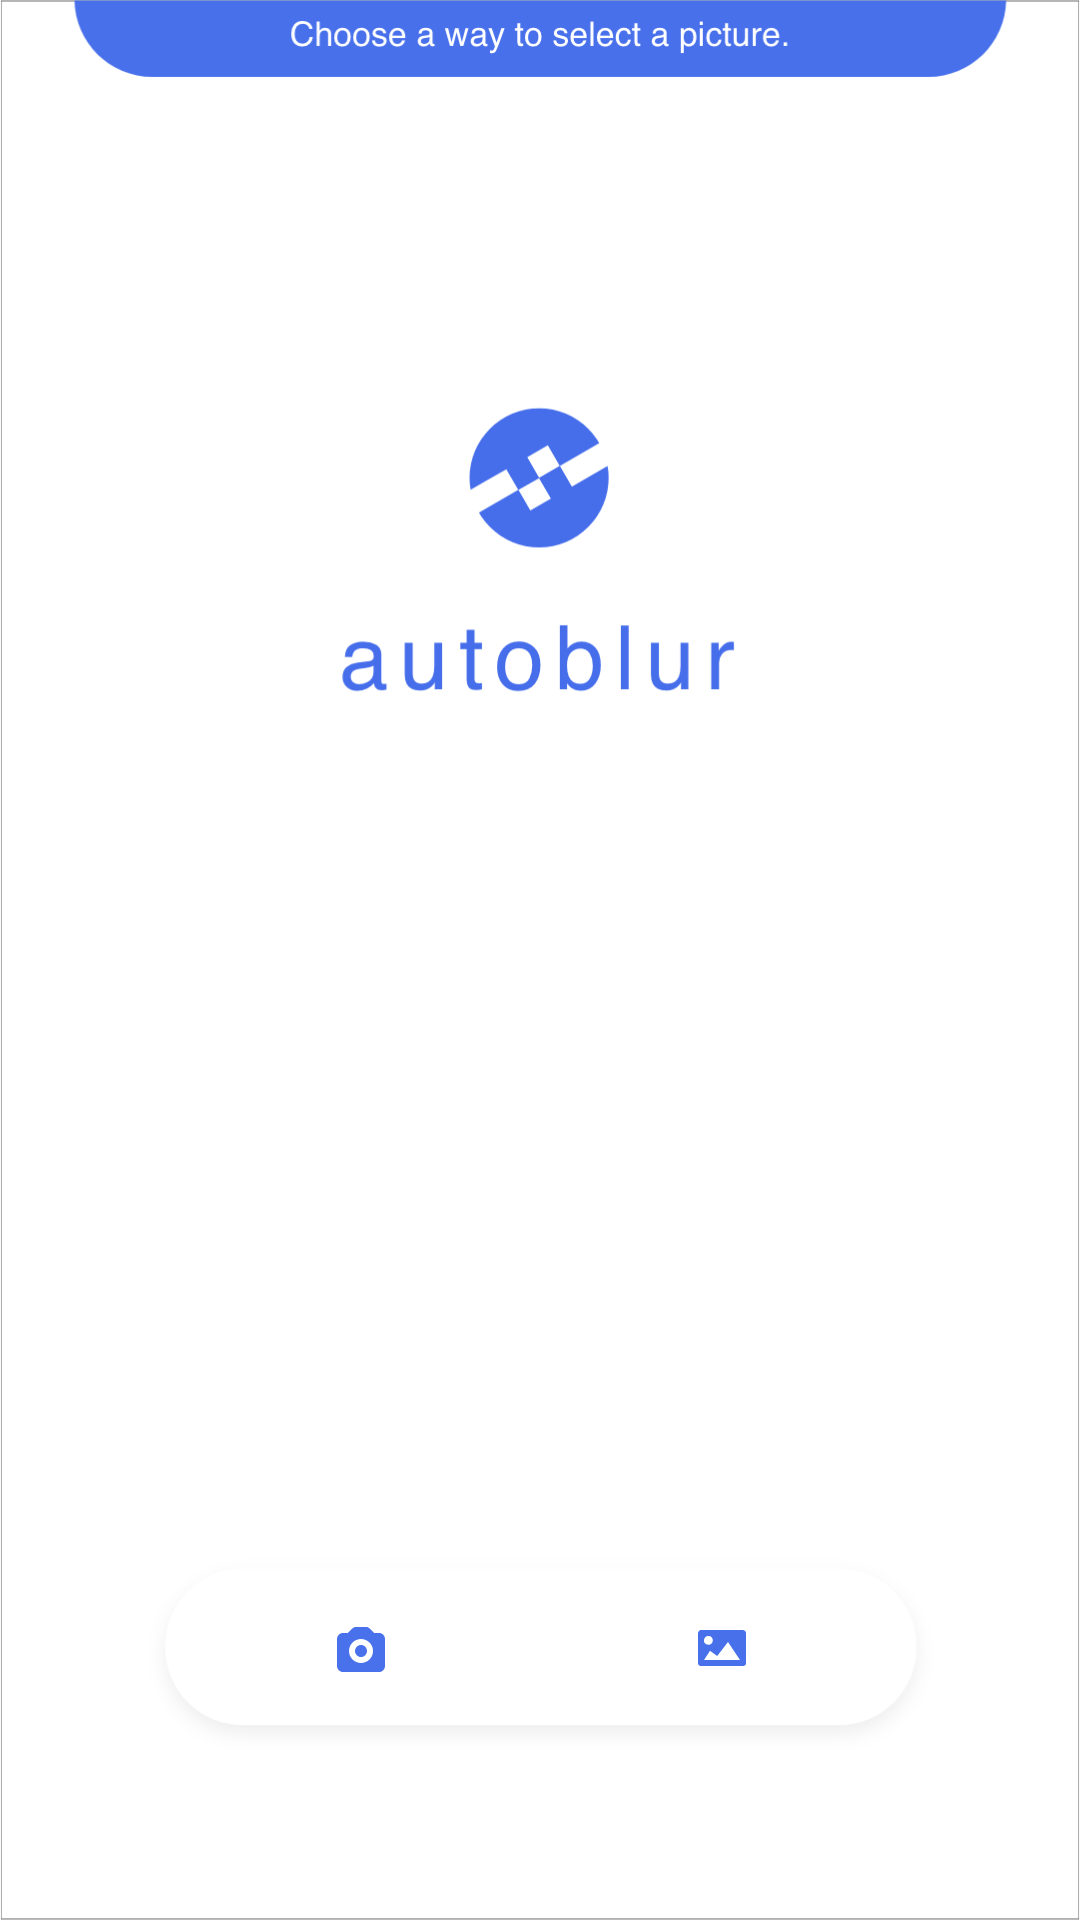

Where icons sit on this 1080 × 1920 app screen, as (x1, y1, x2, y2):
camera select: (337, 1627, 385, 1672)
gallery select: (698, 1630, 746, 1666)
